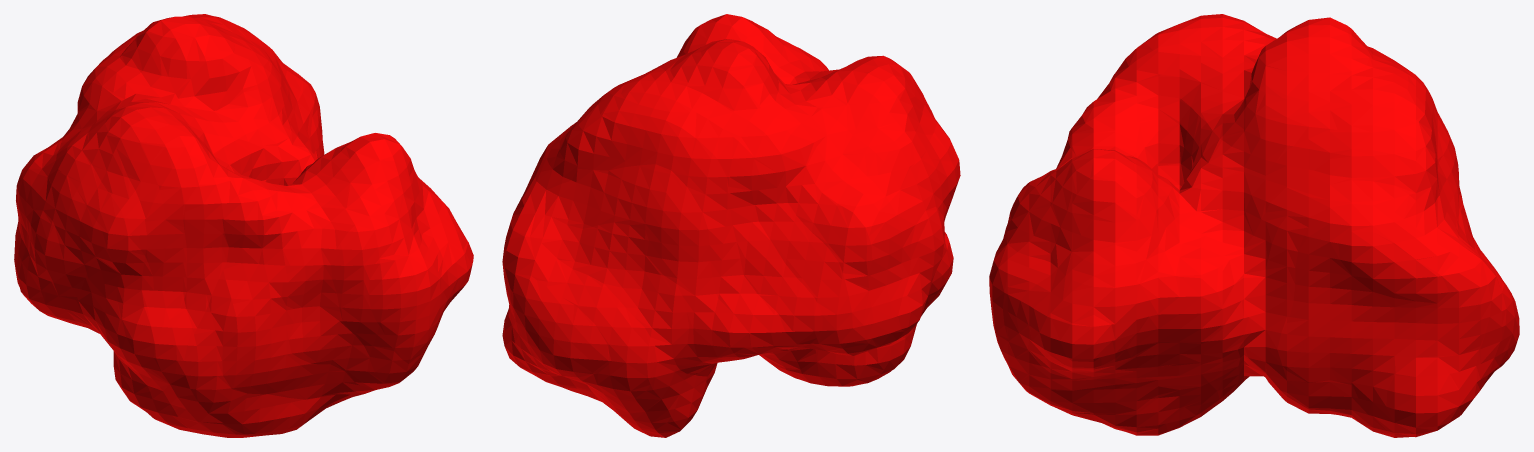
Rendered from orn_coarse.dae.
3 renders of one model, left to right at view 1: azimuth 30°, elevation 25°; view 2: azimuth 150°, elevation 25°; view 3: azimuth 270°, elevation 25°, orthographic. The views are drawn at different scales.
Parts seen in each view (by area): view 1: orn; view 2: orn; view 3: orn.
Boxes of the visible parts, left/top/right/bottom form: orn: left=14, top=14, right=473, bottom=437; orn: left=502, top=14, right=960, bottom=437; orn: left=989, top=14, right=1519, bottom=437.
Size of the model in its own units: 54.93 by 51.62 by 64.35.
